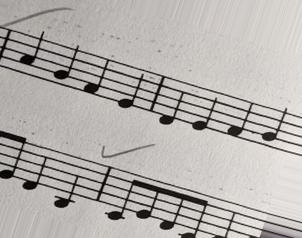note: (224, 95, 256, 146), (15, 31, 47, 80), (259, 104, 289, 155), (21, 141, 51, 192), (81, 51, 111, 101), (50, 42, 79, 93), (115, 63, 145, 111), (189, 83, 218, 132), (158, 75, 185, 126)
